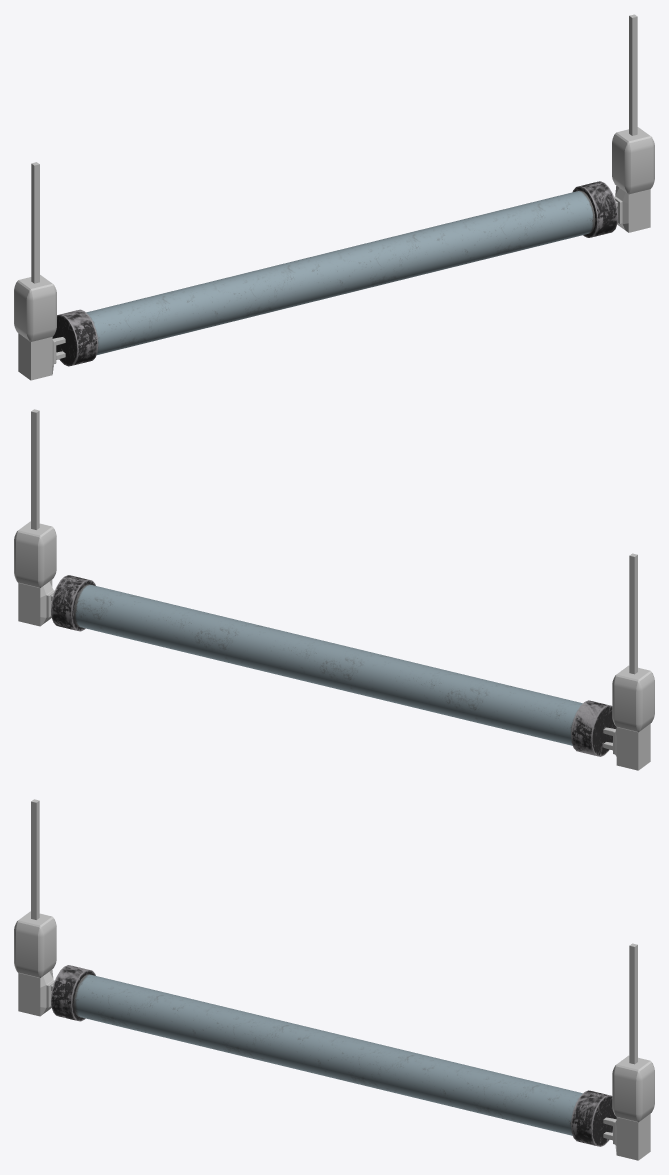
File: SM_Lamp2.fbx
3 views of the same model, one above another, from view 1: azimuth 30°, elevation 25°; view 2: azimuth 150°, elevation 25°; view 3: azimuth 330°, elevation 25° (orthographic).
Parts seen in each view (by area): view 1: long lamp.005, The inverted scum.005, Holding a long lamp.005; view 2: long lamp.005, The inverted scum.005, Holding a long lamp.005; view 3: long lamp.005, The inverted scum.005, Holding a long lamp.005.
Boxes of the visible parts, x1,y1,x2,y2 form: long lamp.005: [86, 190, 595, 354]; The inverted scum.005: [14, 14, 654, 380]; Holding a long lamp.005: [52, 181, 617, 366]; long lamp.005: [73, 584, 582, 745]; The inverted scum.005: [14, 409, 654, 770]; Holding a long lamp.005: [51, 575, 616, 756]; long lamp.005: [73, 974, 582, 1135]; The inverted scum.005: [14, 799, 654, 1160]; Holding a long lamp.005: [51, 965, 616, 1146].
Bounding box in the file's own units: 267 × 84.85 × 20.75.
